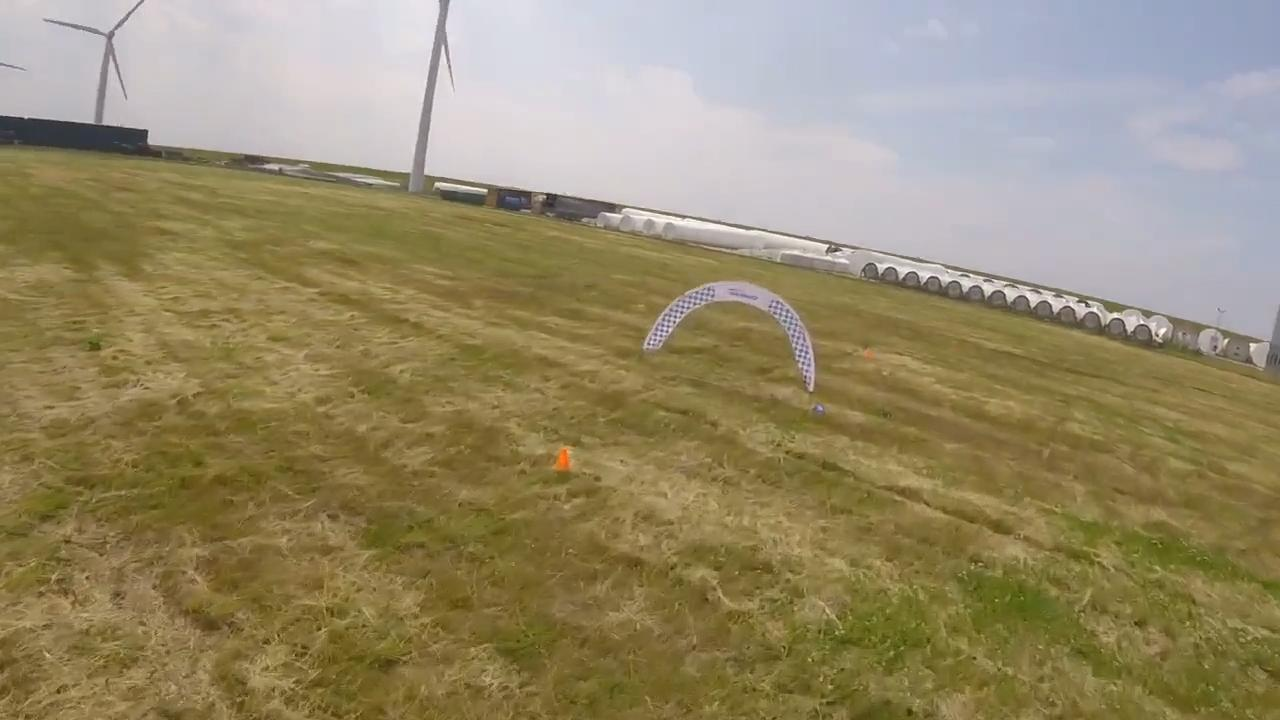gate: (647, 280, 817, 396)
